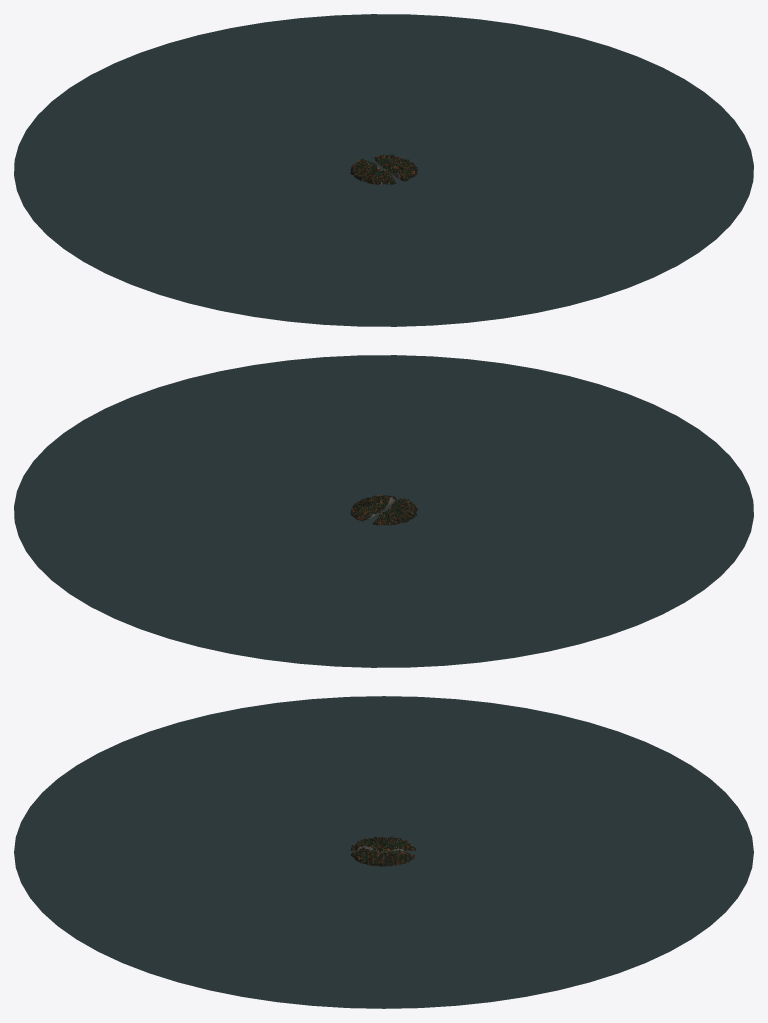
The model's file is backdrop_near_rect_coast_autumn.glb.
The picture shows the model from 3 angles, top to bottom: view 1: azimuth 30°, elevation 25°; view 2: azimuth 150°, elevation 25°; view 3: azimuth 270°, elevation 25°; orthographic projection.
Visible parts, largest first — view 1: water_N, water_S, water_W, water_E; view 2: water_N, water_S, water_W, water_E; view 3: water_E, water_N, water_W, water_S.
Boxes of the visible parts, x1,y1,x2,y2 form: water_N: (26, 14, 479, 170); water_S: (288, 170, 741, 326); water_W: (14, 130, 382, 321); water_E: (384, 19, 753, 210); water_N: (26, 511, 479, 667); water_S: (288, 355, 741, 511); water_W: (384, 471, 753, 662); water_E: (14, 360, 383, 551); water_E: (123, 863, 644, 1008); water_N: (385, 742, 753, 962); water_W: (123, 696, 644, 852); water_S: (14, 742, 383, 962).
Size of the model in its own units: 6000 by 172 by 6000.
5 materials, 3 textured.
